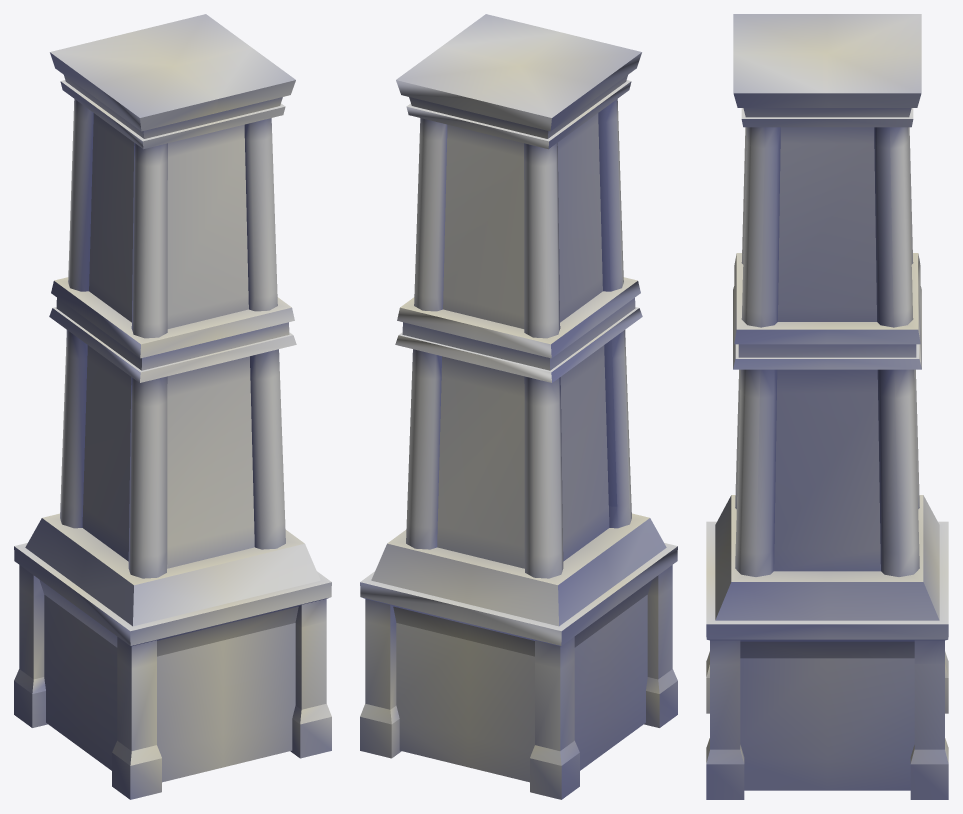
The model's file is SquarePillarShort.gltf.
3 renders of one model, left to right at view 1: azimuth 30°, elevation 25°; view 2: azimuth 150°, elevation 25°; view 3: azimuth 270°, elevation 25°, orthographic. The views are drawn at different scales.
Parts seen in each view (by area): view 1: SquarePillarShortMesh; view 2: SquarePillarShortMesh; view 3: SquarePillarShortMesh.
Boxes of the visible parts, x1,y1,x2,y2 form: SquarePillarShortMesh: (14,14,331,799); SquarePillarShortMesh: (360,14,677,799); SquarePillarShortMesh: (706,14,948,799).
Size of the model in its own units: 3.17 by 10.03 by 3.17.
